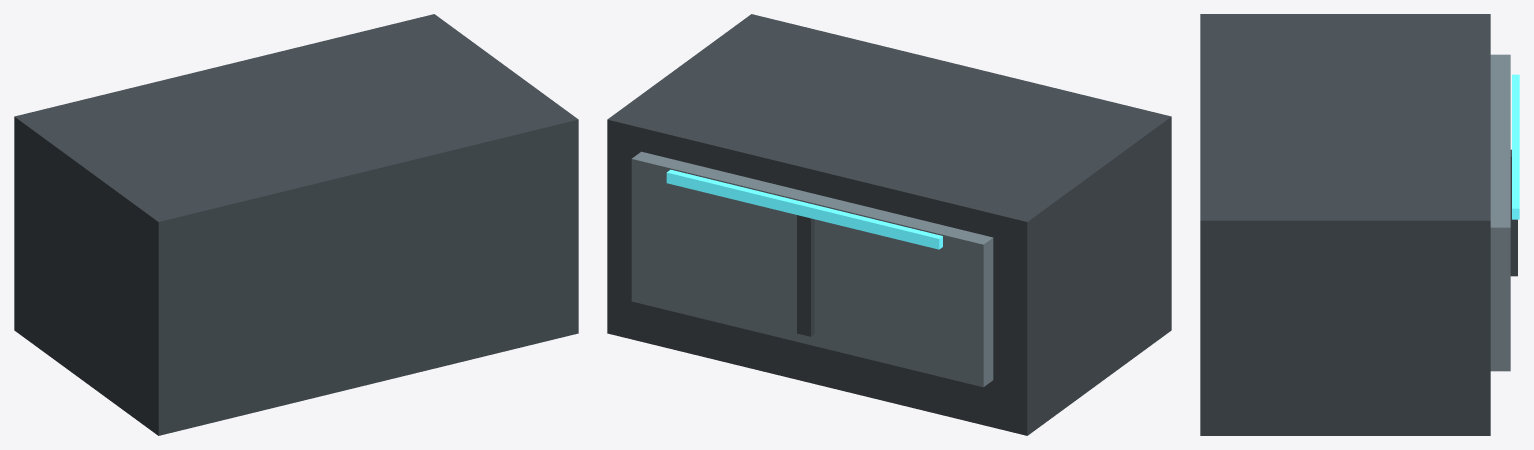
Rendered from Identity-core_data_cabinet_low.glb.
3 views of the same model, side by side, from view 1: azimuth 30°, elevation 25°; view 2: azimuth 150°, elevation 25°; view 3: azimuth 270°, elevation 25° (orthographic).
Visible parts, largest first — view 1: Cabinet; view 2: Cabinet, FrontPanel, StatusLine, PanelSplit; view 3: Cabinet, FrontPanel, StatusLine, PanelSplit.
Boxes of the visible parts, box(x1,y1,x2,y2) form: Cabinet: box(14, 14, 578, 435); Cabinet: box(607, 14, 1171, 435); FrontPanel: box(631, 151, 993, 387); StatusLine: box(666, 169, 942, 249); PanelSplit: box(797, 215, 814, 336); Cabinet: box(1200, 14, 1490, 435); FrontPanel: box(1490, 54, 1510, 371); StatusLine: box(1512, 74, 1519, 219); PanelSplit: box(1510, 149, 1517, 276).
Size of the model in its own units: 1.48 by 0.72 by 0.968.
